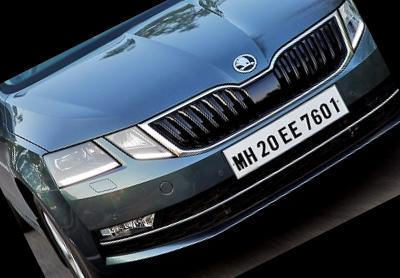plate: (214, 84, 363, 185)
